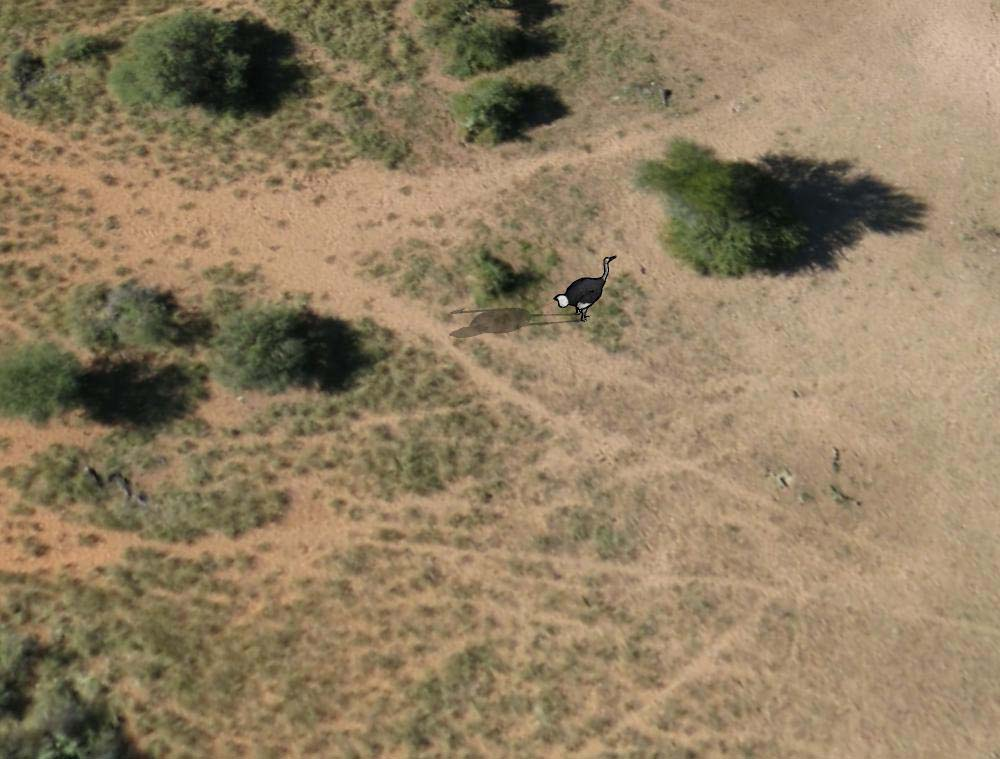ostrich: (553, 244, 620, 328)
